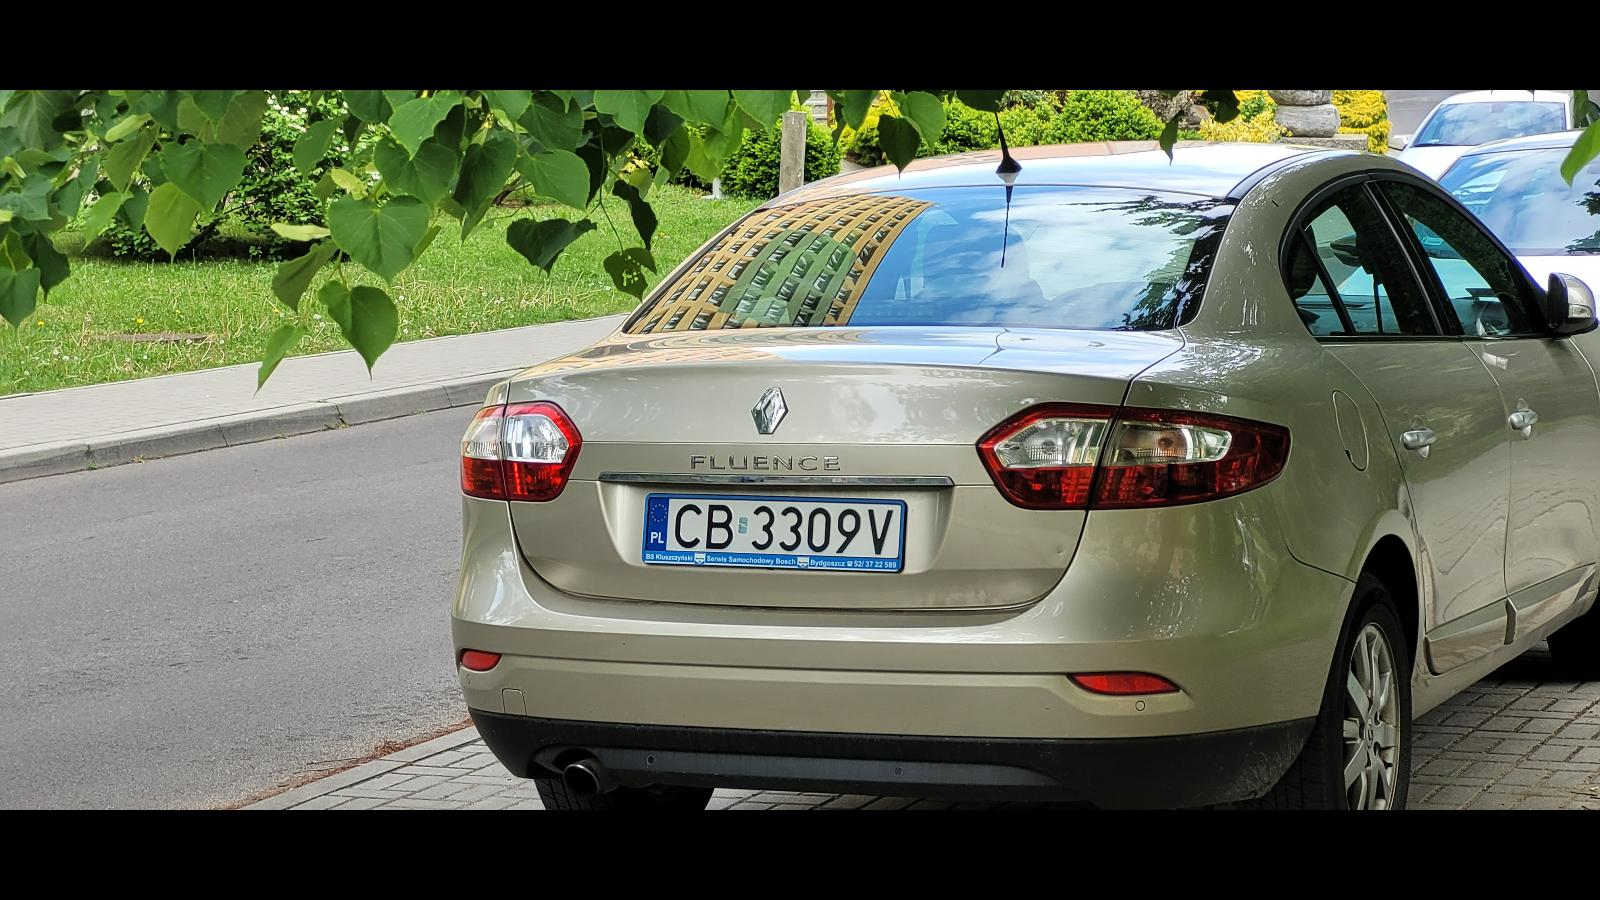plates: (641, 494, 905, 572)
